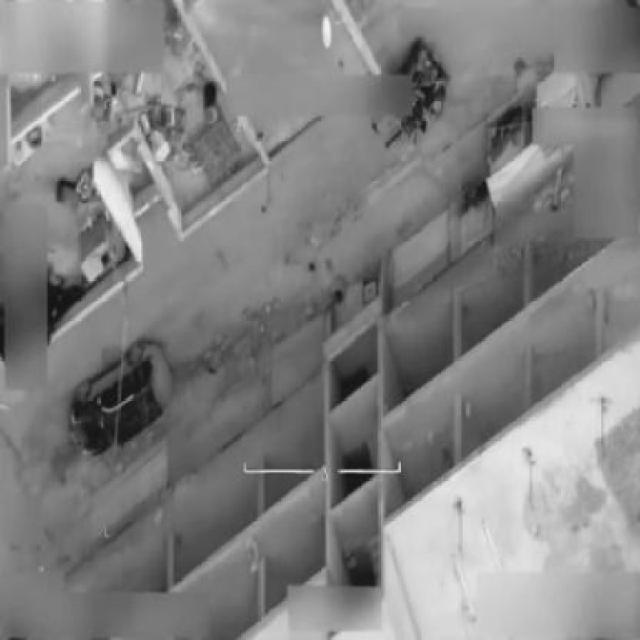Vehicle: (69, 342, 175, 463), (370, 43, 454, 159)
